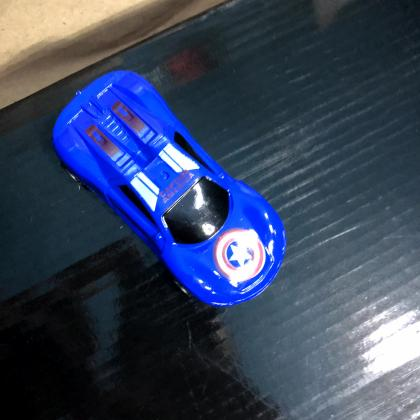Car: (52, 71, 287, 310)
